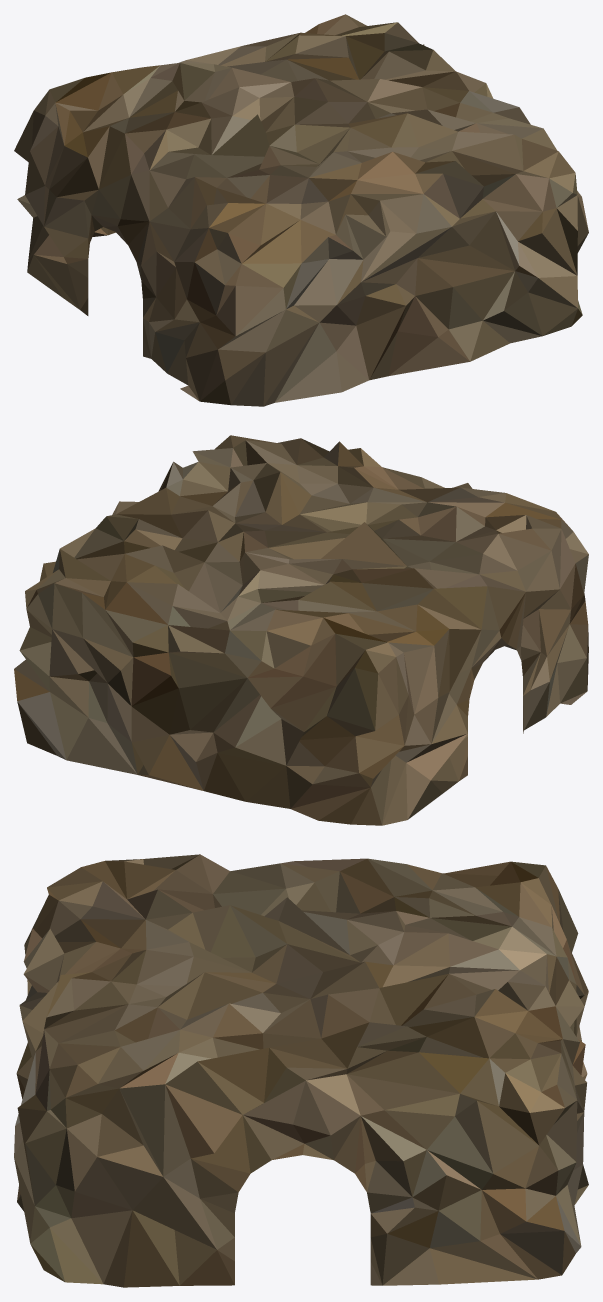
The model's file is Cave-Room2Exit.fbx.
The picture shows the model from 3 angles, top to bottom: view 1: azimuth 30°, elevation 25°; view 2: azimuth 150°, elevation 25°; view 3: azimuth 270°, elevation 25°; orthographic projection. The views are drawn at different scales.
Parts seen in each view (by area): view 1: Cave-Room2Exit; view 2: Cave-Room2Exit; view 3: Cave-Room2Exit.
Part boxes in pixels (box(x1,y1,x2,y2)): Cave-Room2Exit: box(14, 14, 588, 406); Cave-Room2Exit: box(14, 435, 588, 825); Cave-Room2Exit: box(14, 854, 588, 1287).
Bounding box in the file's own units: 2124 × 981 × 2117.
